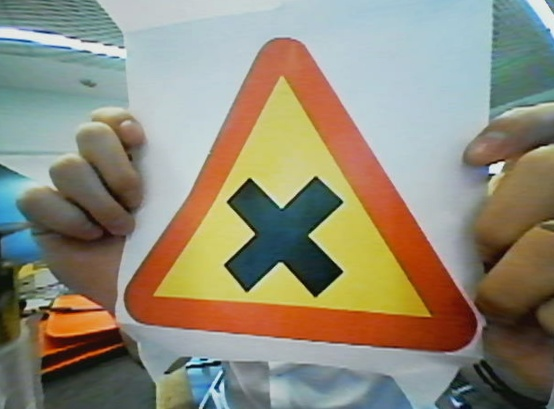junction: (127, 33, 485, 361)
